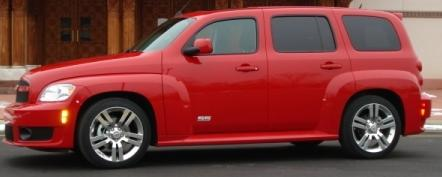front_view: (4, 70, 81, 156)
headlight: (31, 78, 79, 108)
side_glass: (176, 12, 407, 60)
